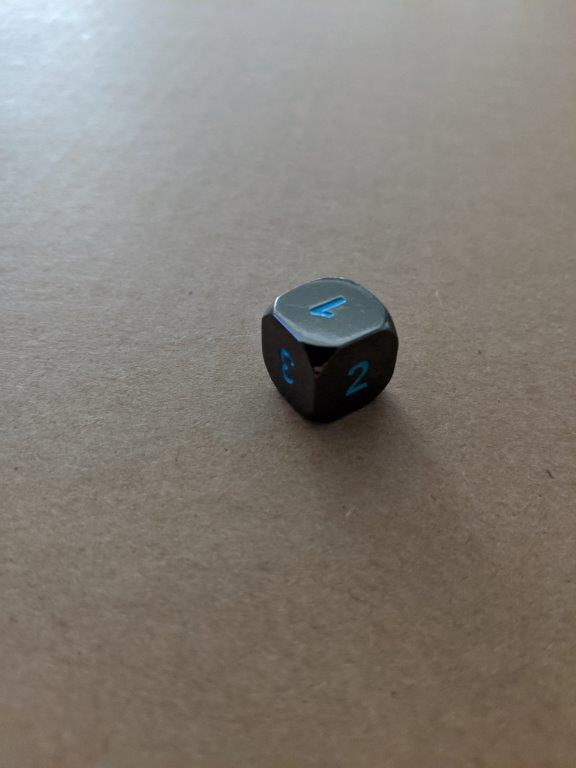d6-1: (260, 275, 400, 424)
